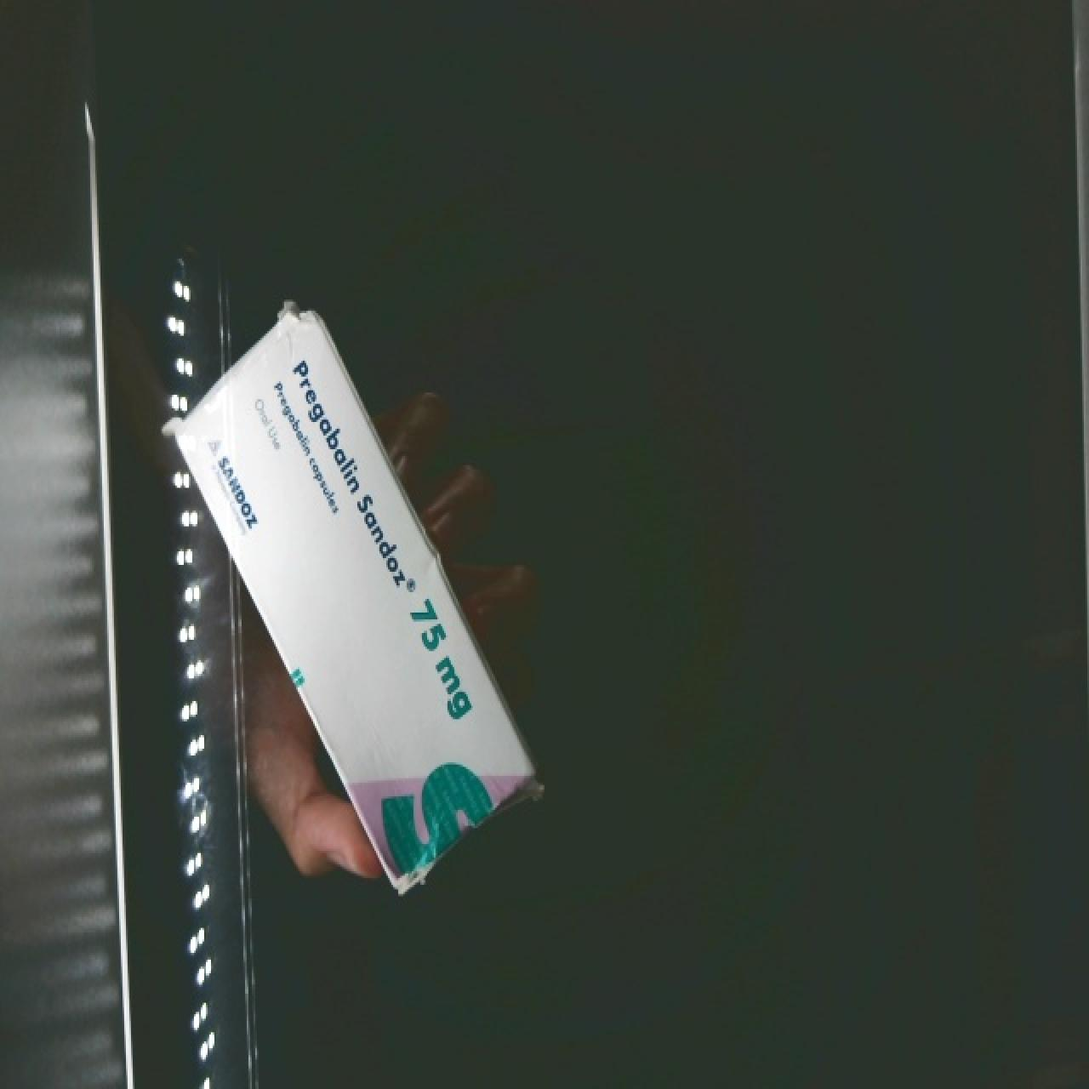medicine_label_obb: (257, 321, 443, 622)
